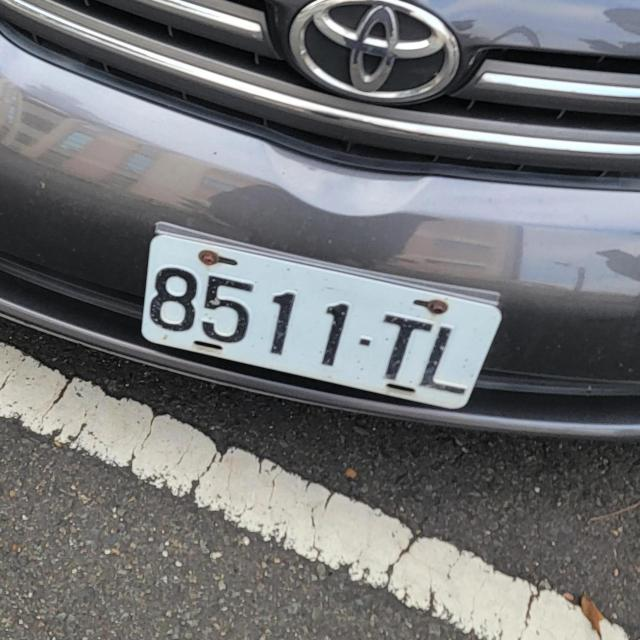W: (132, 225, 502, 408)
